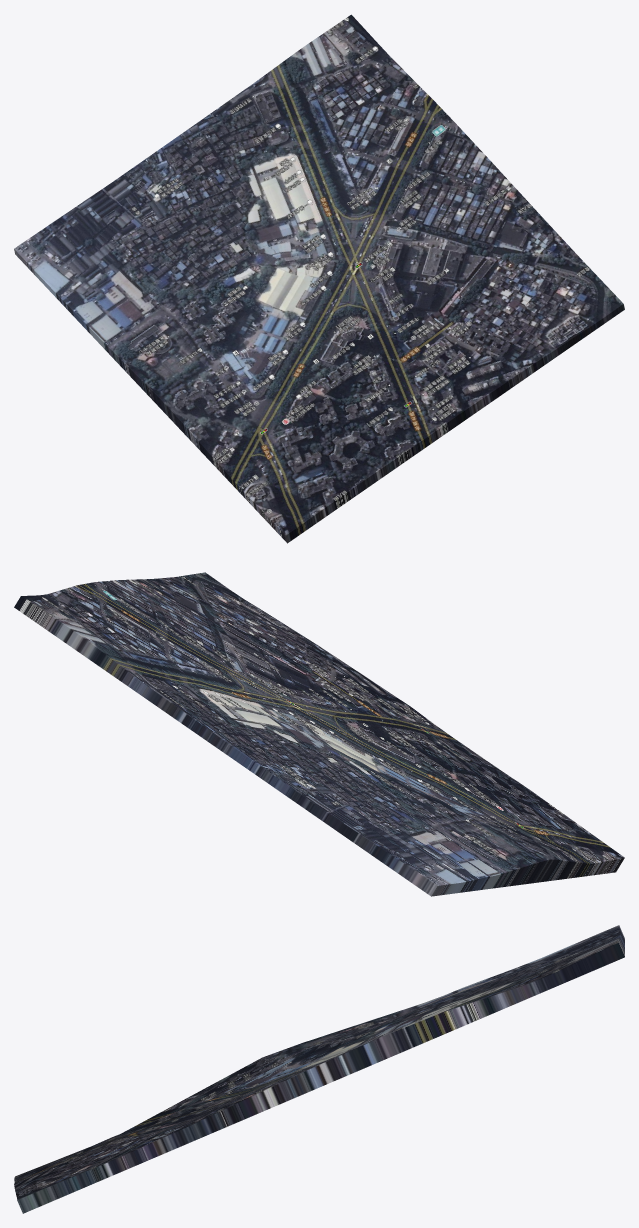
3 renders of one model, top to bottom at view 1: azimuth 30°, elevation 25°; view 2: azimuth 150°, elevation 25°; view 3: azimuth 270°, elevation 25°, orthographic. The views are drawn at different scales.
Visible parts, largest first — view 1: 0_16_4; view 2: 0_16_4; view 3: 0_16_4.
Boxes of the visible parts, <box> form: 0_16_4: <box>14,14,624,543</box>; 0_16_4: <box>14,572,624,896</box>; 0_16_4: <box>14,925,624,1213</box>.
Bounding box in the file's own units: 597 × 439 × 550.
Materials: 1 (1 with a texture image).
